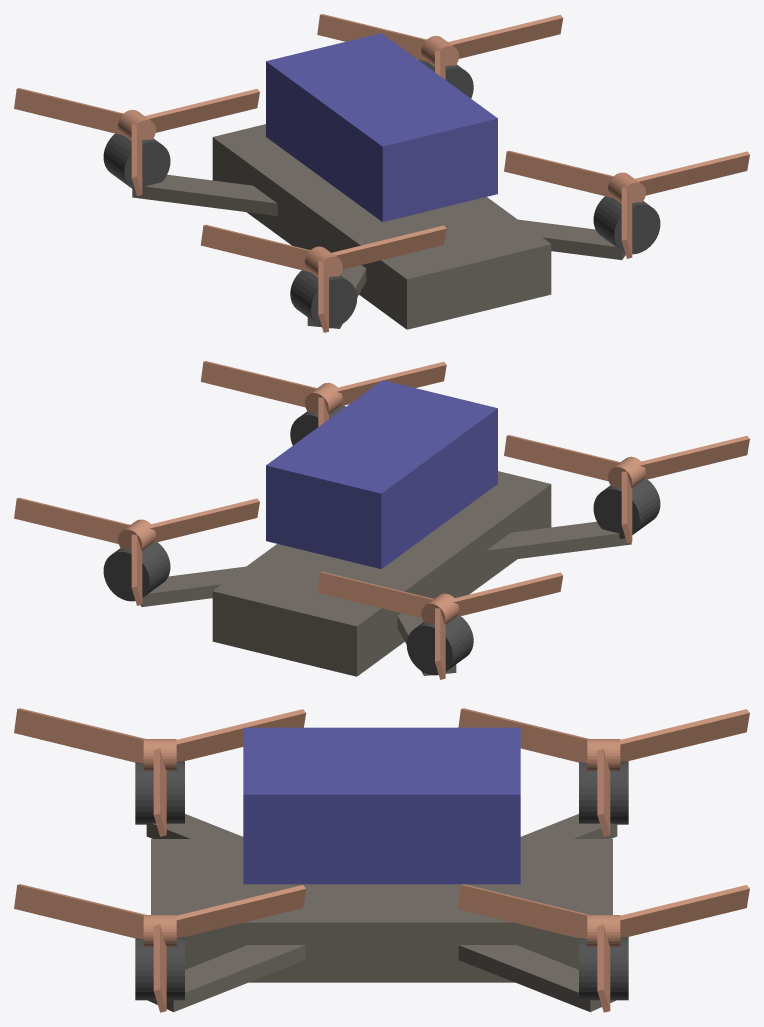
Rendered from Stealth 5.glb.
3 views of the same model, one above another, from view 1: azimuth 30°, elevation 25°; view 2: azimuth 150°, elevation 25°; view 3: azimuth 270°, elevation 25° (orthographic). The views are drawn at different scales.
Visible parts, largest first — view 1: battery, frame_body, prop_0, prop_3, prop_2, prop_1, arm_3, motor_0, motor_2, motor_3, arm_0, motor_1 (+1 smaller); view 2: battery, frame_body, prop_1, prop_2, prop_3, prop_0, arm_2, motor_1, motor_3, motor_2, arm_1, motor_0 (+1 smaller); view 3: battery, frame_body, prop_1, prop_0, prop_2, prop_3, arm_1, arm_0, motor_0, motor_1, motor_2, motor_3 (+2 smaller).
Boxes of the visible parts, <box> form: battery: <box>266,33,497,222</box>; frame_body: <box>212,124,551,329</box>; prop_0: <box>504,150,749,258</box>; prop_3: <box>14,88,259,196</box>; prop_2: <box>200,224,446,332</box>; prop_1: <box>317,14,563,79</box>; arm_3: <box>132,174,277,215</box>; motor_0: <box>593,196,660,254</box>; motor_2: <box>290,270,357,328</box>; motor_3: <box>103,133,170,191</box>; arm_0: <box>518,219,625,259</box>; motor_1: <box>418,59,473,98</box>; battery: <box>266,380,497,569</box>; frame_body: <box>212,471,551,676</box>; prop_1: <box>14,497,259,605</box>; prop_2: <box>504,435,749,543</box>; prop_3: <box>317,571,562,679</box>; prop_0: <box>200,361,446,426</box>; arm_2: <box>486,521,631,562</box>; motor_1: <box>103,542,170,601</box>; motor_3: <box>406,616,473,675</box>; motor_2: <box>593,479,660,538</box>; arm_1: <box>140,566,245,606</box>; motor_0: <box>290,405,345,445</box>; battery: <box>243,727,520,884</box>; frame_body: <box>151,839,612,982</box>; prop_1: <box>457,884,749,1012</box>; prop_0: <box>14,884,306,1012</box>; prop_2: <box>14,708,306,836</box>; prop_3: <box>458,708,749,836</box>; arm_1: <box>458,945,615,1012</box>; arm_0: <box>148,945,305,1012</box>; motor_0: <box>135,937,184,1000</box>; motor_1: <box>579,937,628,1000</box>; motor_2: <box>135,761,184,824</box>; motor_3: <box>579,761,628,824</box>.
Size of the model in its own units: 0.2027 by 0.06 by 0.2229.
